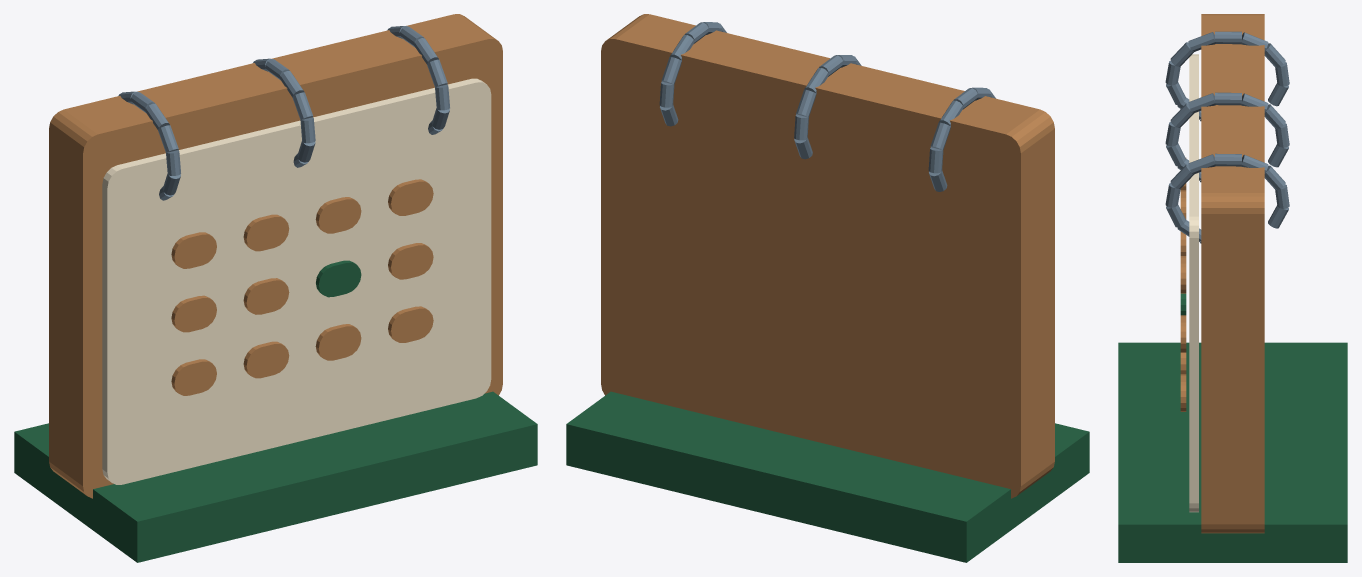
Rendered from deskcalendar.glb.
The picture shows the model from 3 angles, left to right: view 1: azimuth 30°, elevation 25°; view 2: azimuth 150°, elevation 25°; view 3: azimuth 270°, elevation 25°; orthographic projection. The views are drawn at different scales.
Parts seen in each view (by area): view 1: calendar page, binding board, rear foot, day 1, day 9, day 4, marked date, day 3, day 5, day 11, day 0, day 7 (+3 smaller); view 2: binding board, rear foot; view 3: rear foot, binding board, calendar page, loop16, loop06, loop26, loop15, loop25, loop05, loop04, loop14, loop24 (+3 smaller).
Part boxes in pixels (x1,y1,x2,y2): calendar page: [102, 78, 491, 484]; binding board: [49, 14, 502, 498]; rear foot: [14, 391, 537, 562]; day 1: [243, 214, 289, 251]; day 9: [243, 341, 289, 378]; day 4: [171, 295, 216, 332]; marked date: [316, 260, 361, 297]; day 3: [388, 179, 433, 215]; day 5: [243, 278, 289, 314]; day 11: [388, 306, 433, 342]; day 0: [171, 232, 216, 268]; day 7: [388, 243, 433, 279]; binding board: [601, 14, 1054, 498]; rear foot: [566, 391, 1089, 562]; rear foot: [1118, 342, 1347, 562]; binding board: [1201, 14, 1264, 533]; calendar page: [1189, 54, 1198, 512]; loop16: [1215, 92, 1241, 105]; loop06: [1215, 31, 1241, 44]; loop26: [1215, 153, 1241, 166]; loop15: [1188, 93, 1215, 113]; loop25: [1188, 154, 1215, 174]; loop05: [1188, 32, 1215, 52]; loop04: [1170, 42, 1193, 66]; loop14: [1170, 103, 1193, 127]; loop24: [1170, 164, 1193, 188].
Bounding box in the file's own units: 1.28 × 1.18 × 0.65.
